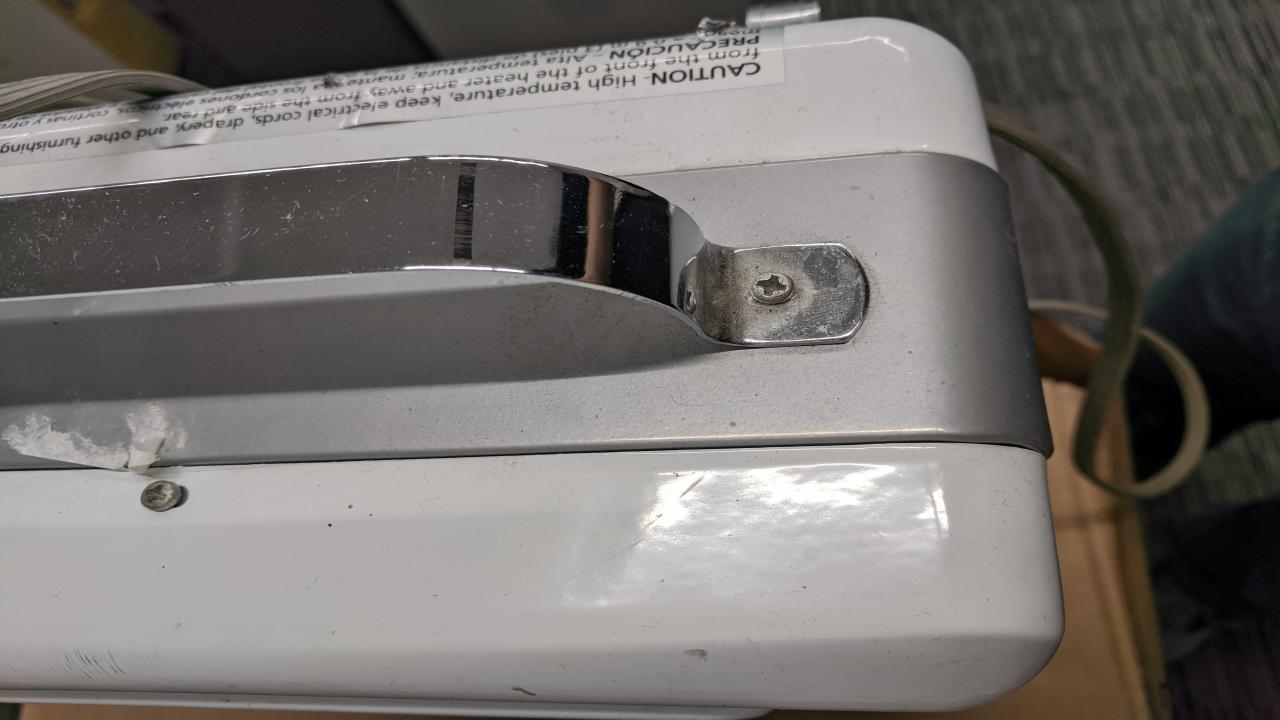CRS: (135, 476, 192, 511), (748, 266, 799, 304)
